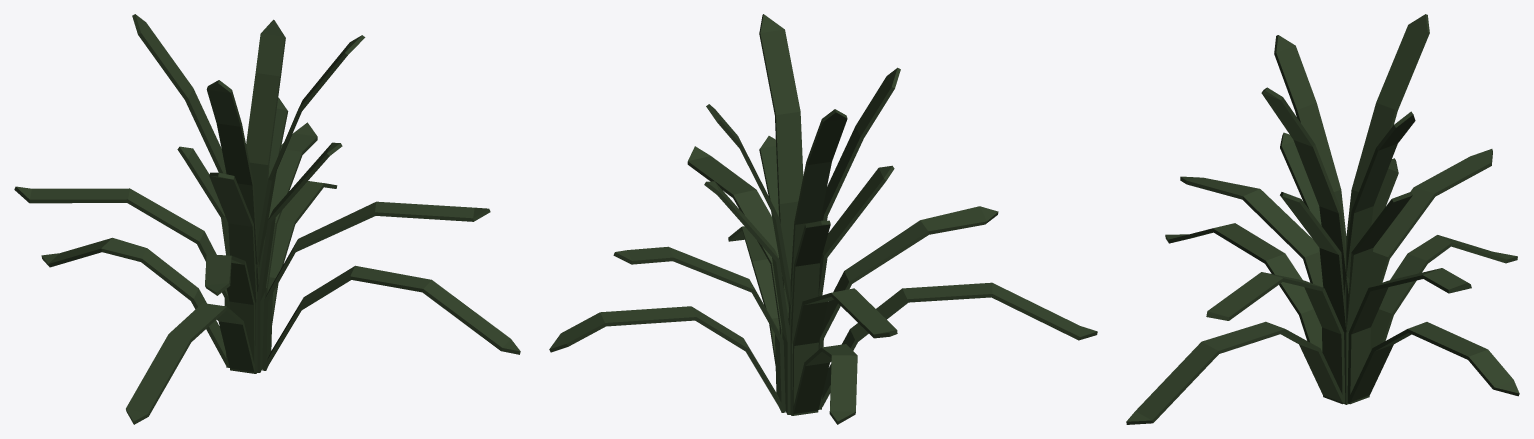
File: Plant_4.glb
The picture shows the model from 3 angles, left to right: view 1: azimuth 30°, elevation 25°; view 2: azimuth 150°, elevation 25°; view 3: azimuth 270°, elevation 25°; orthographic projection.
Visible parts, largest first — view 1: Plant_3; view 2: Plant_3; view 3: Plant_3.
Boxes of the visible parts, x1,y1,x2,y2 form: Plant_3: (14,14,520,424); Plant_3: (549,14,1097,424); Plant_3: (1126,14,1519,424).
Bounding box in the file's own units: 1.09 × 0.9437 × 0.9724.
